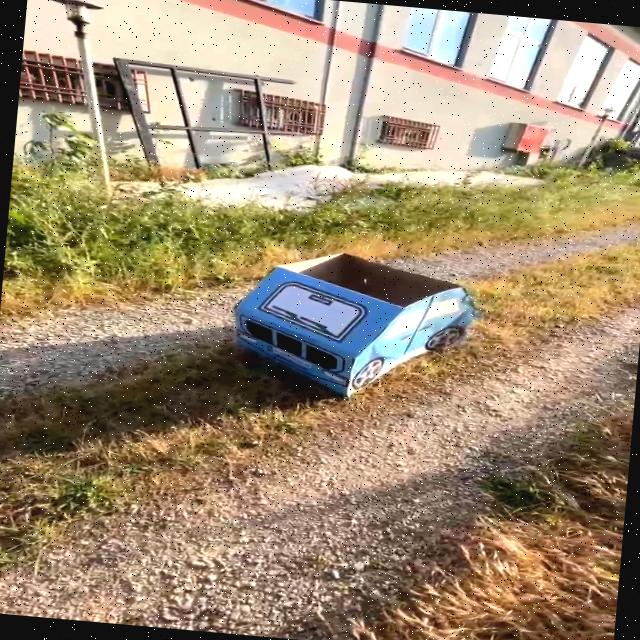blue_car: (137, 218, 546, 427)
